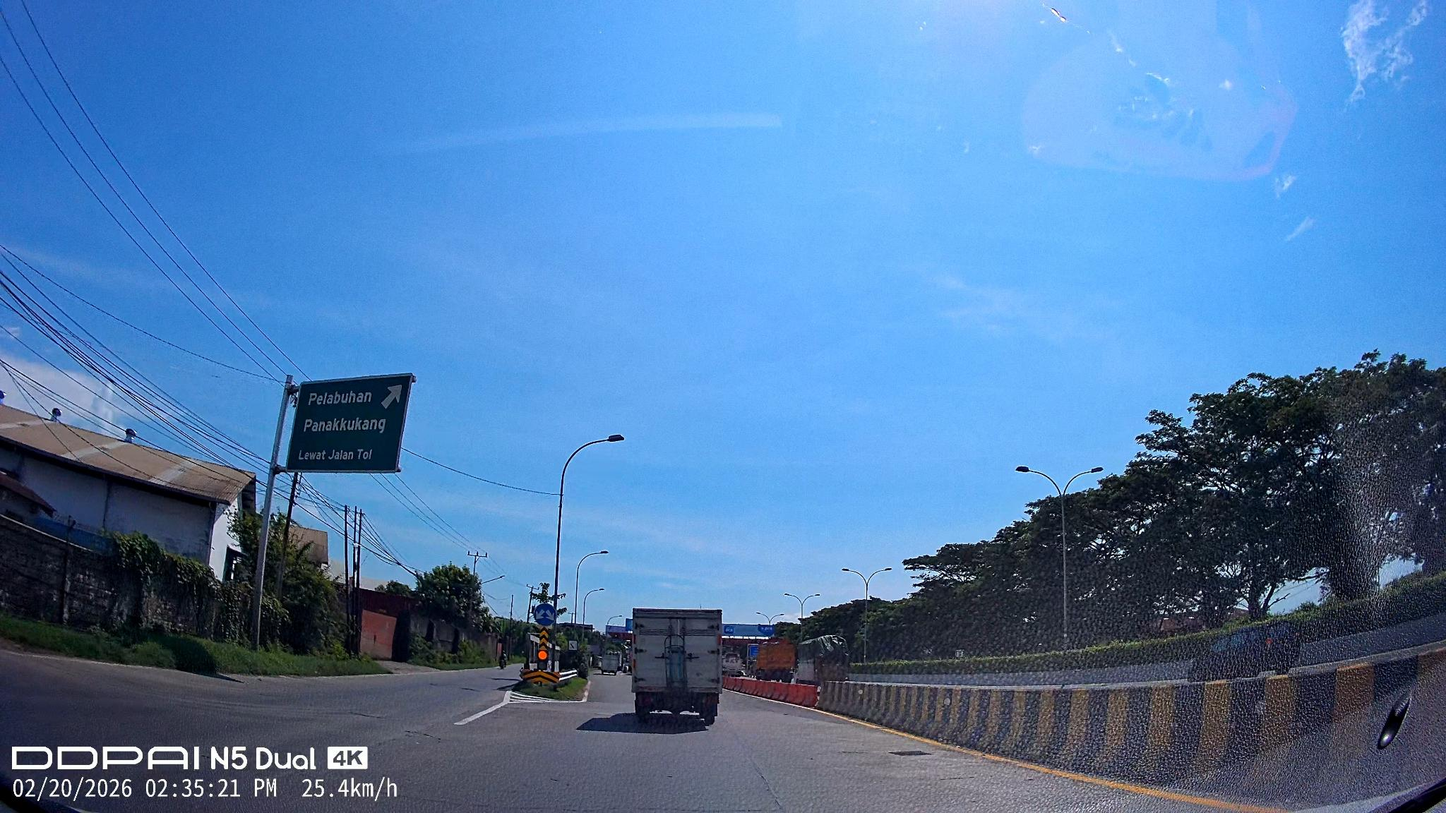rambu_teks: (284, 372, 416, 474)
